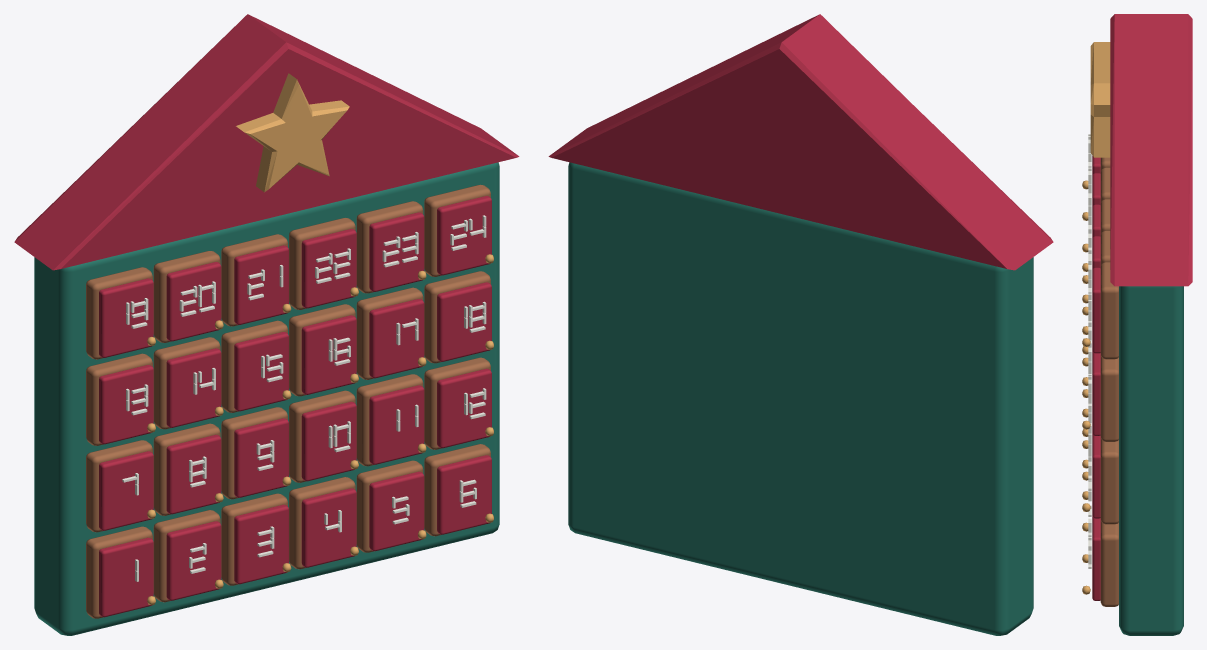
Rendered from storybook-christmas-market-numbered-advent-calendar-47063abf__19739.glb.
3 views of the same model, side by side, from view 1: azimuth 30°, elevation 25°; view 2: azimuth 150°, elevation 25°; view 3: azimuth 270°, elevation 25° (orthographic). The views are drawn at different scales.
Visible parts, largest first — view 1: numbered-advent-calendar; view 2: numbered-advent-calendar; view 3: numbered-advent-calendar.
Boxes of the visible parts, left/top/right/bottom form: numbered-advent-calendar: left=14, top=14, right=519, bottom=635; numbered-advent-calendar: left=548, top=14, right=1053, bottom=635; numbered-advent-calendar: left=1082, top=14, right=1192, bottom=635.
Bounding box in the file's own units: 1.19 × 1.33 × 0.2545.
